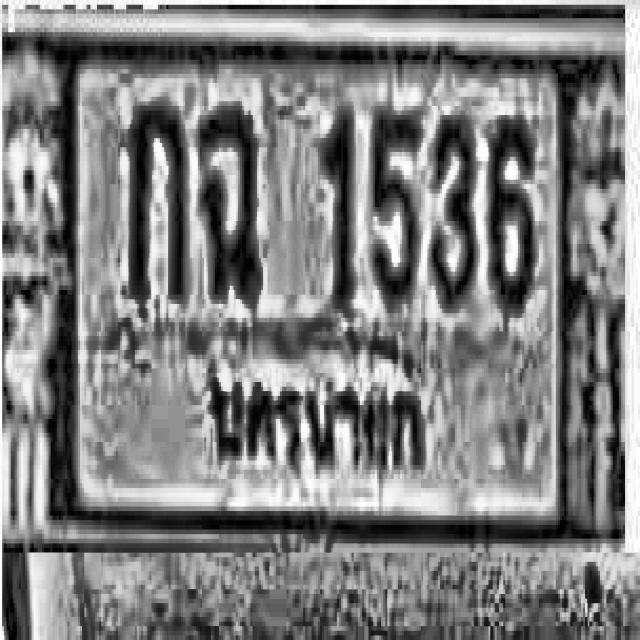license-plate: (0, 24, 640, 532)
